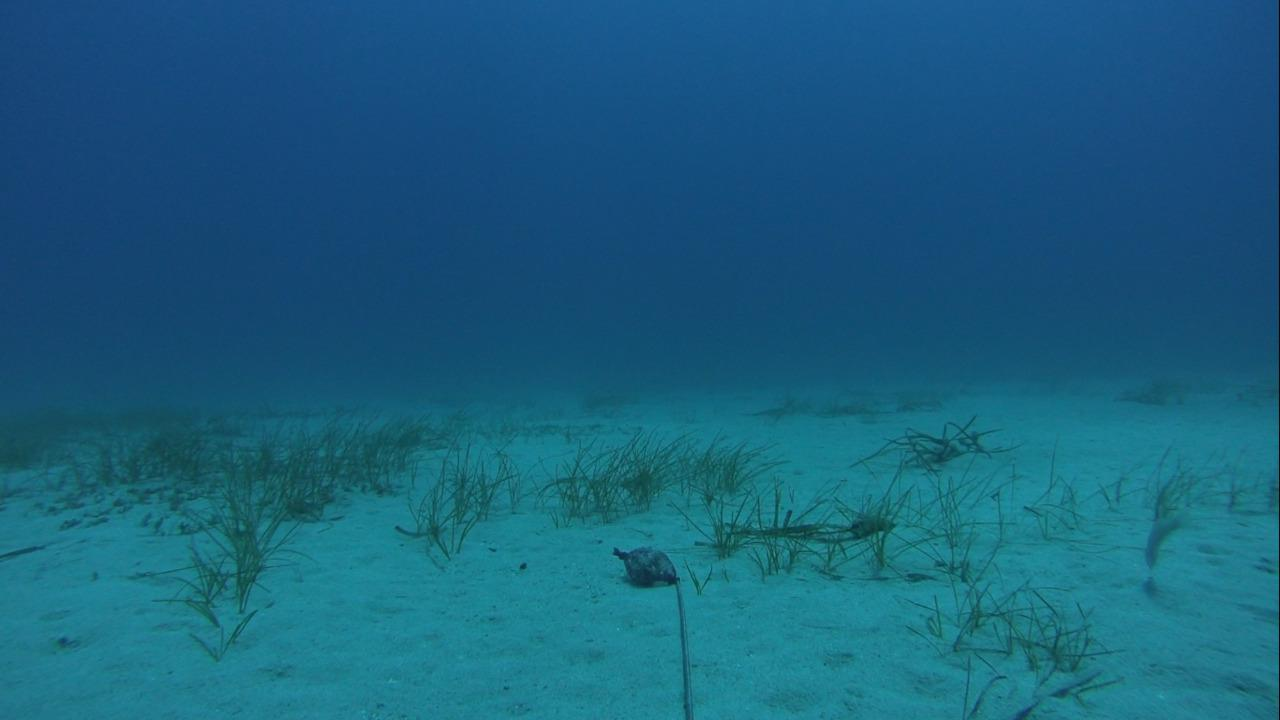raor: (1139, 510, 1190, 573)
